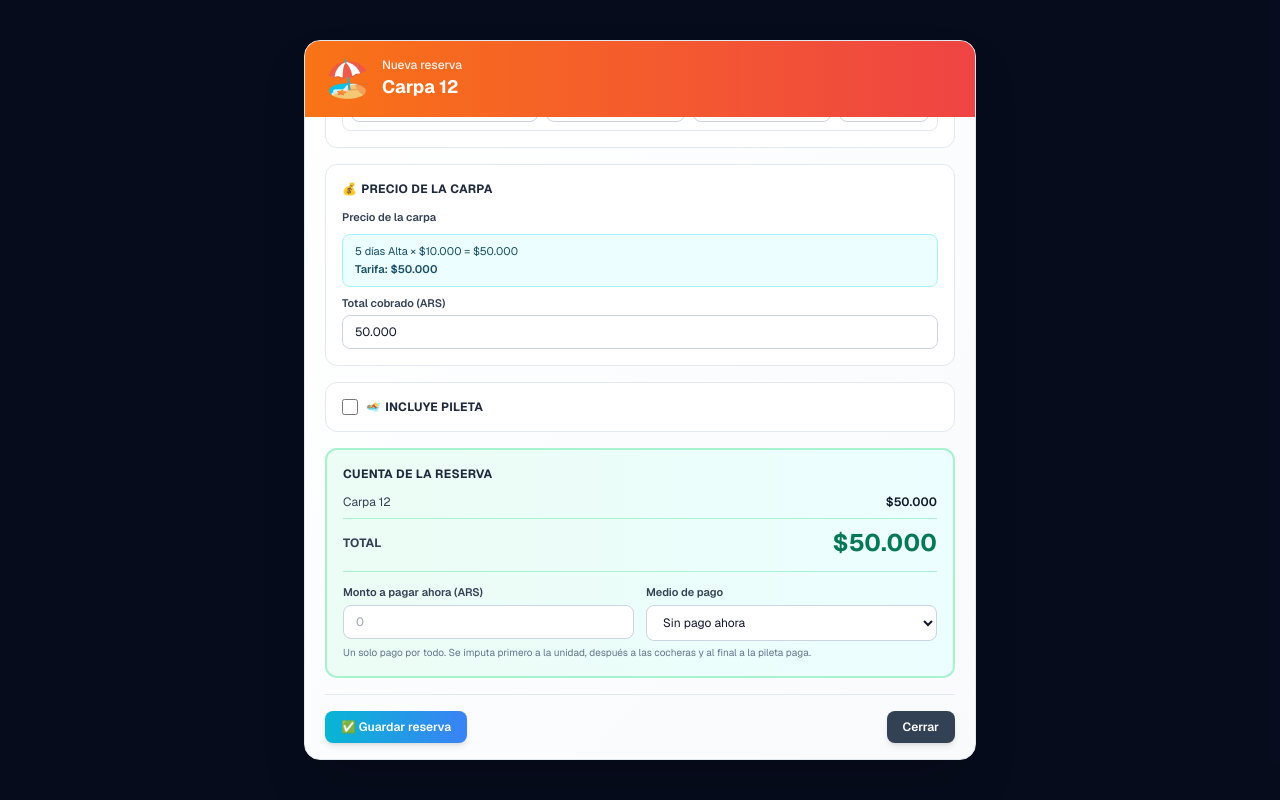
cuenta unica en el alta de la carpa › no deja pagar mas que el total ni pagar sin medio de pago
(page scrolled)
Type "50001" into the field labelled "Monto a pagar ahora (ARS)" at coordinates (488, 622), box x1=343 y1=604 x2=634 y2=638
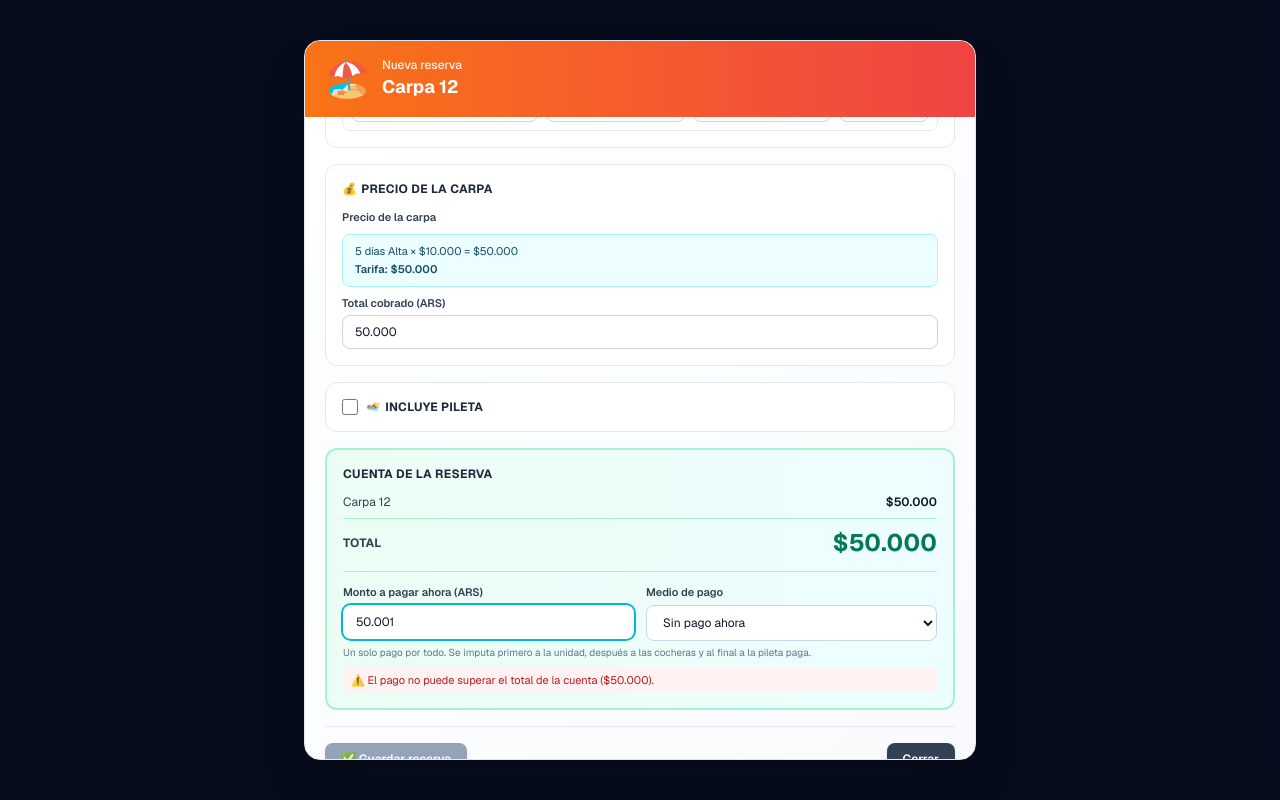
Expected: the text "⚠️ El pago no puede superar el total de la cuenta ($50.000)." is shown, x1=343 y1=668 x2=937 y2=692
Replace the text in the field labelled "Monto a pagar ahora (ARS)" with "1000" at coordinates (488, 622), box x1=343 y1=604 x2=634 y2=638
(page scrolled)
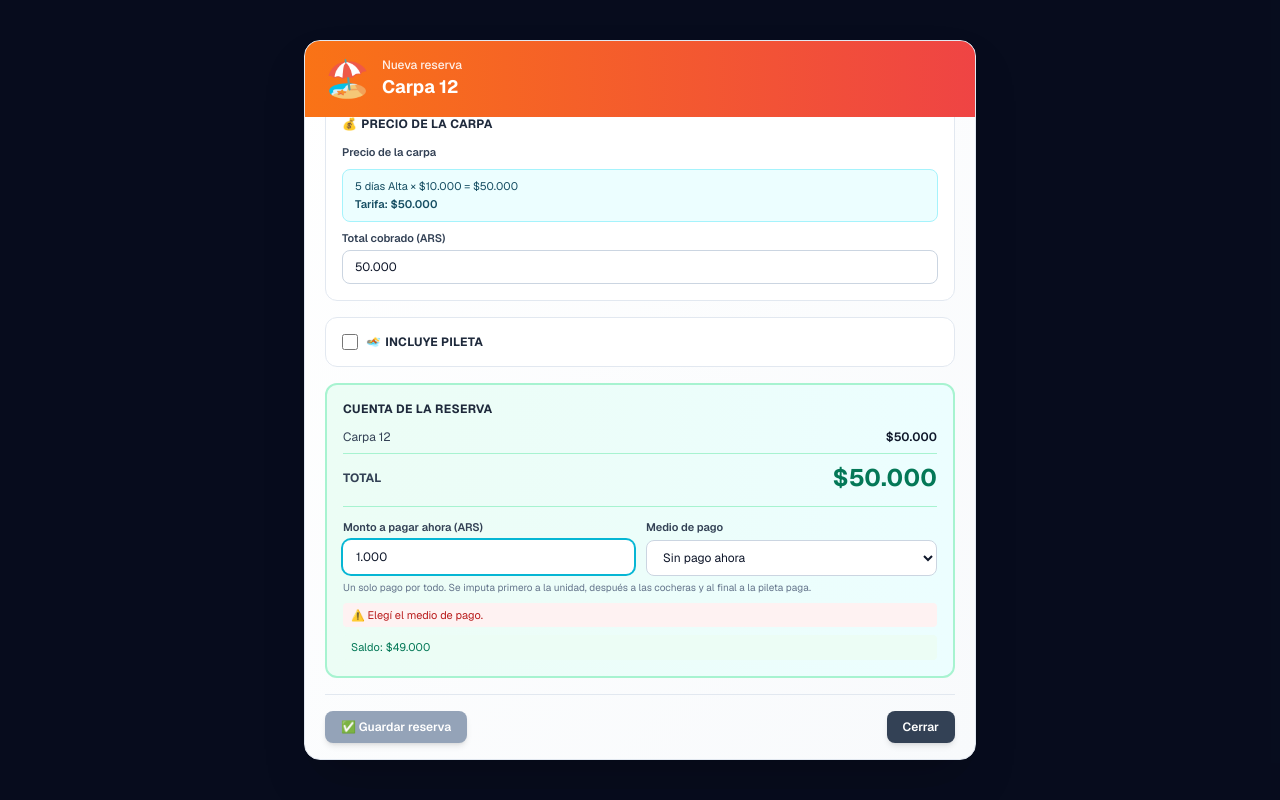
Expected: the text "⚠️ Elegí el medio de pago." is shown, x1=343 y1=602 x2=937 y2=627
Expected: the button "✅ Guardar reserva" is disabled, x1=325 y1=710 x2=467 y2=742
